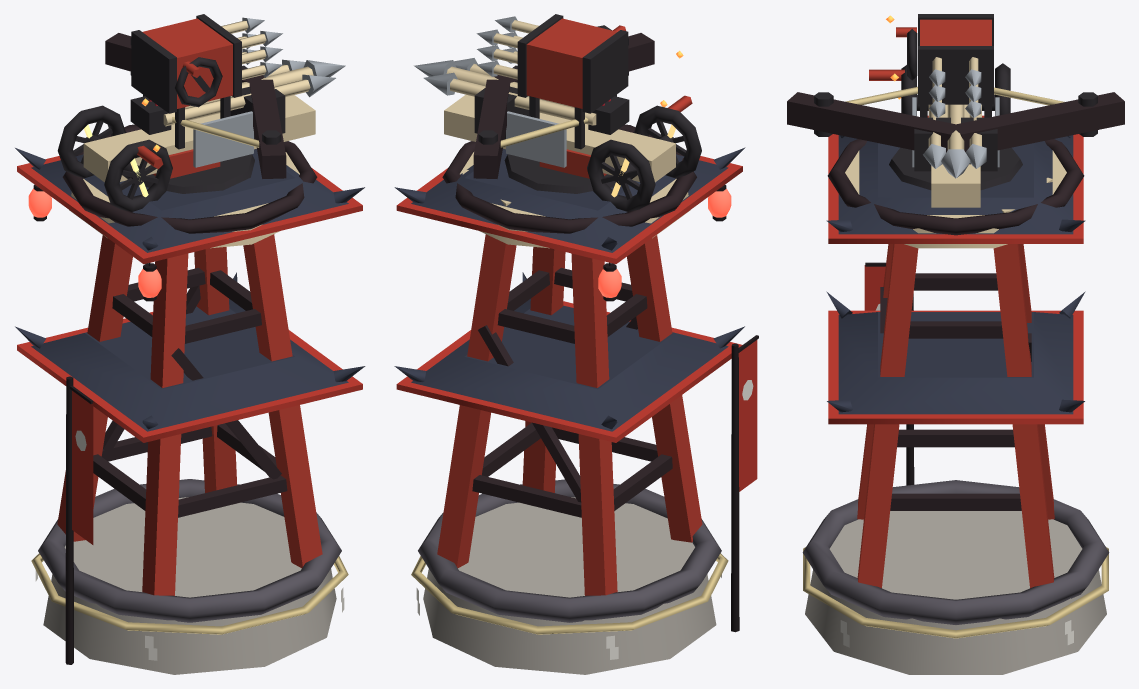
The model's file is tower_ballista_boltStorm.glb.
The picture shows the model from 3 angles, left to right: view 1: azimuth 30°, elevation 25°; view 2: azimuth 150°, elevation 25°; view 3: azimuth 270°, elevation 25°; orthographic projection.
Visible parts, largest first — view 1: base, deco_eave_1_roof, base_rim, leg_wn, leg_en, deco_eave_0_roof, deco_eave_1_rim, deck_rim, deco_eave_0_rim, leg_ws, stock, magazine (+34 smaller); view 2: base, deco_eave_1_roof, base_rim, leg_ws, leg_es, deco_eave_0_roof, leg_wn, deco_eave_1_rim, magazine, deck_rim, deco_eave_0_rim, stock (+32 smaller); view 3: base, deco_eave_1_roof, base_rim, deco_eave_0_roof, leg_en, leg_es, deco_eave_1_rim, deck_rim, bow_arm_l, bow_arm_r, deco_eave_0_rim, magazine_band_f (+19 smaller).
Boxes of the visible parts, x1,y1,x2,y2 form: base: (43,497,336,674); deco_eave_1_roof: (31,299,348,431); base_rim: (38,479,341,622); leg_wn: (142,253,188,595); leg_en: (243,234,322,568); deco_eave_0_roof: (31,148,348,252); deco_eave_1_rim: (17,312,362,442); deck_rim: (62,124,317,233); deco_eave_0_rim: (17,156,362,264); leg_ws: (57,235,132,541); stock: (83,95,315,182); magazine: (142,18,232,108); base: (423,497,716,674); deco_eave_1_roof: (411,298,728,431); base_rim: (418,479,721,622); leg_ws: (571,253,617,595); leg_es: (437,234,516,567); deco_eave_0_roof: (411,148,728,252); leg_wn: (627,235,702,542); deco_eave_1_rim: (396,301,742,442); magazine: (526,18,616,108); deck_rim: (442,124,696,233); deco_eave_0_rim: (396,156,742,264); stock: (444,94,675,182); base: (805,511,1106,674); deco_eave_1_roof: (838,312,1073,414); base_rim: (802,480,1109,624); deco_eave_0_roof: (838,135,1073,234); leg_en: (857,244,918,588); leg_es: (993,244,1054,588); deco_eave_1_rim: (828,310,1083,424); deck_rim: (827,139,1084,235); bow_arm_l: (787,92,959,152); bow_arm_r: (953,92,1124,151); deco_eave_0_rim: (828,134,1083,243); magazine_band_f: (918,46,993,104).
Bounding box in the file's own units: 0.4662 × 0.848 × 0.4469.
